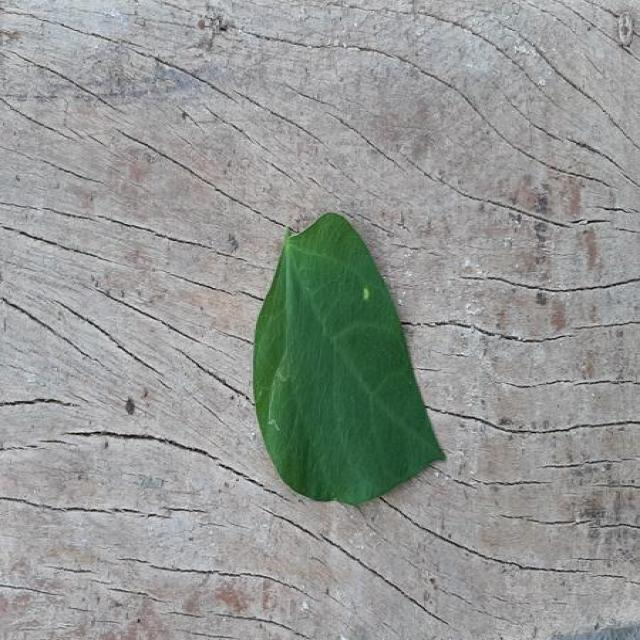beans: (253, 212, 445, 503)
